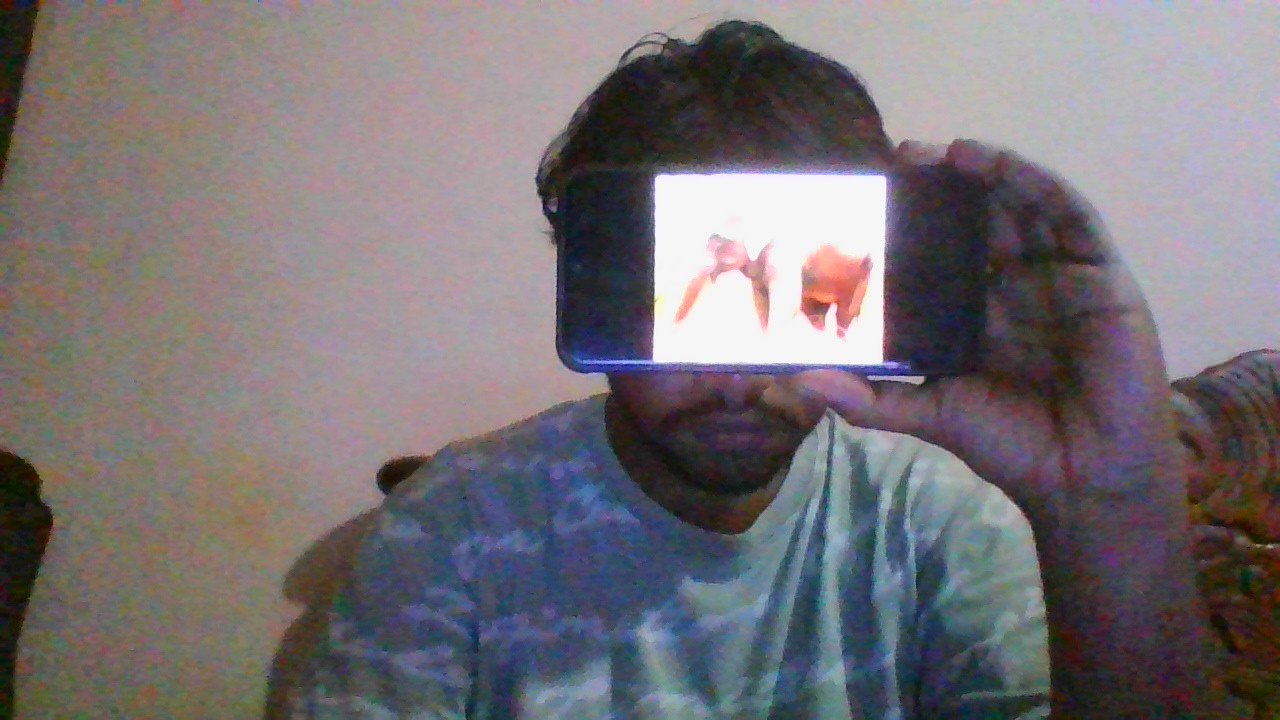elephant: (682, 212, 861, 343), (691, 219, 862, 343), (681, 211, 782, 312)
